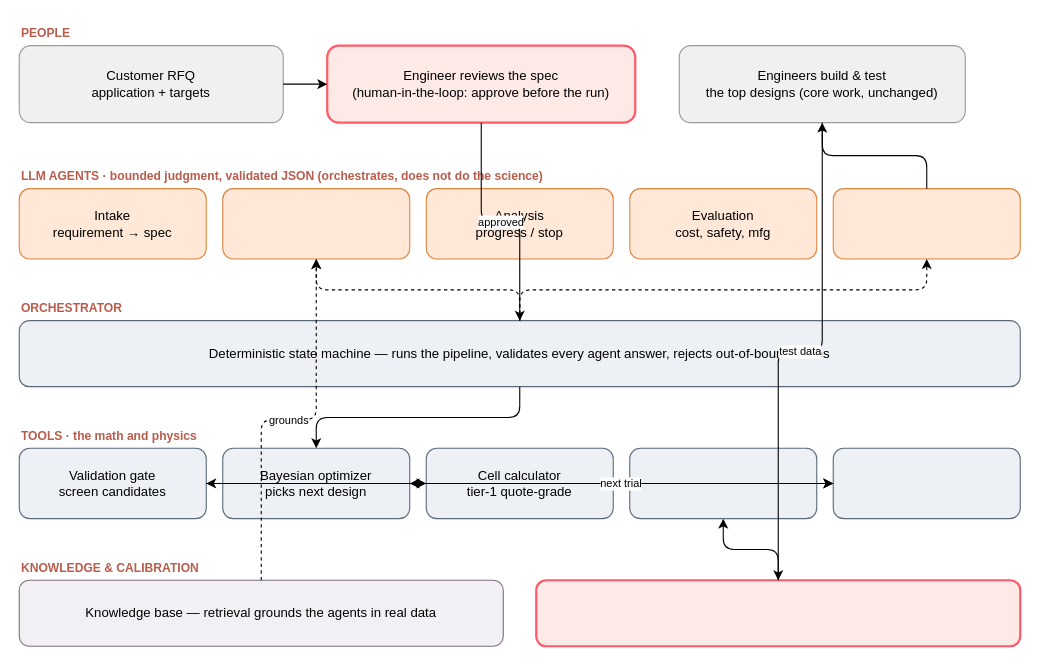
The diagram is 1041 pixels wide and 666 high, and some of its shapes have lost their labels. Here are the shapes that lost their labels. From the top down, the box of each, then its label:
(222, 188, 410, 259): Strategy search plan
(832, 188, 1020, 259): Report ranked write-up
(629, 447, 817, 519): DFN simulation tier-3 directional
(832, 447, 1020, 519): Objective + scoring feasible? rank
(535, 579, 1021, 647): Calibration loop — test data refits the DFN to IBC's own cells (the moat)
